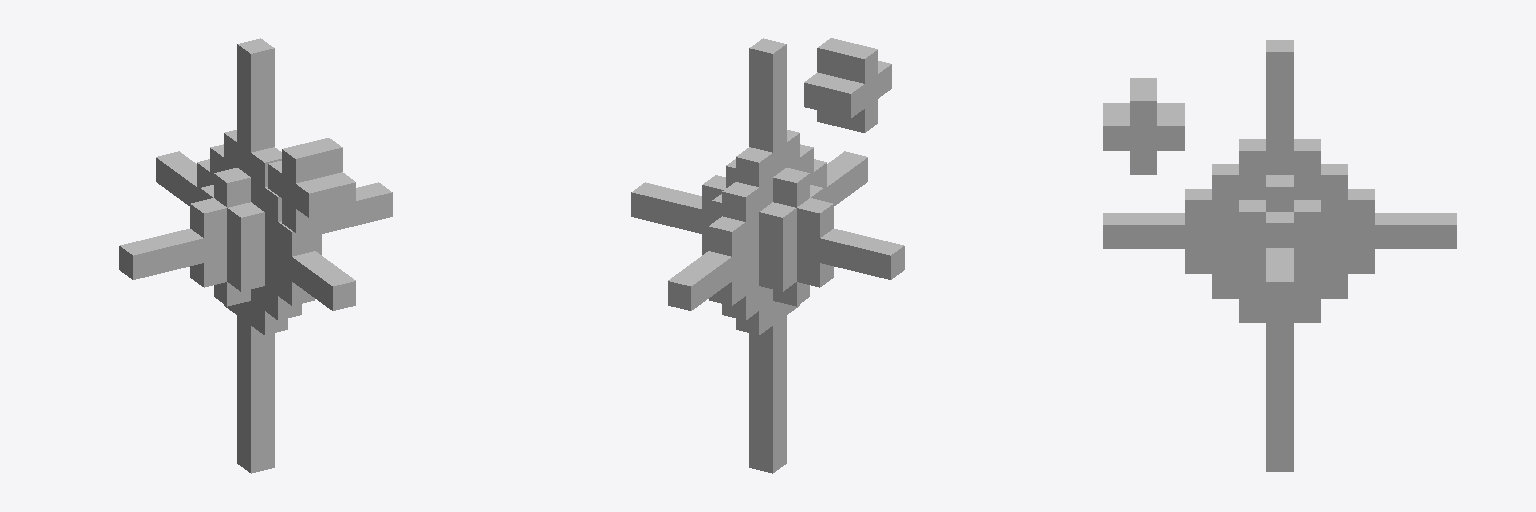
Rendered from EXP.obj.
The picture shows the model from 3 angles: view 1: azimuth 30°, elevation 25°; view 2: azimuth 150°, elevation 25°; view 3: azimuth 270°, elevation 25°; orthographic projection.
Parts seen in each view (by area): view 1: object 1; view 2: object 1; view 3: object 1.
Boxes of the visible parts, box(x1,y1,x2,y2) form: object 1: box(119, 38, 392, 473); object 1: box(631, 38, 904, 473); object 1: box(1103, 40, 1456, 471).
Bounding box in the file's own units: 1.1 × 1.7 × 1.3.